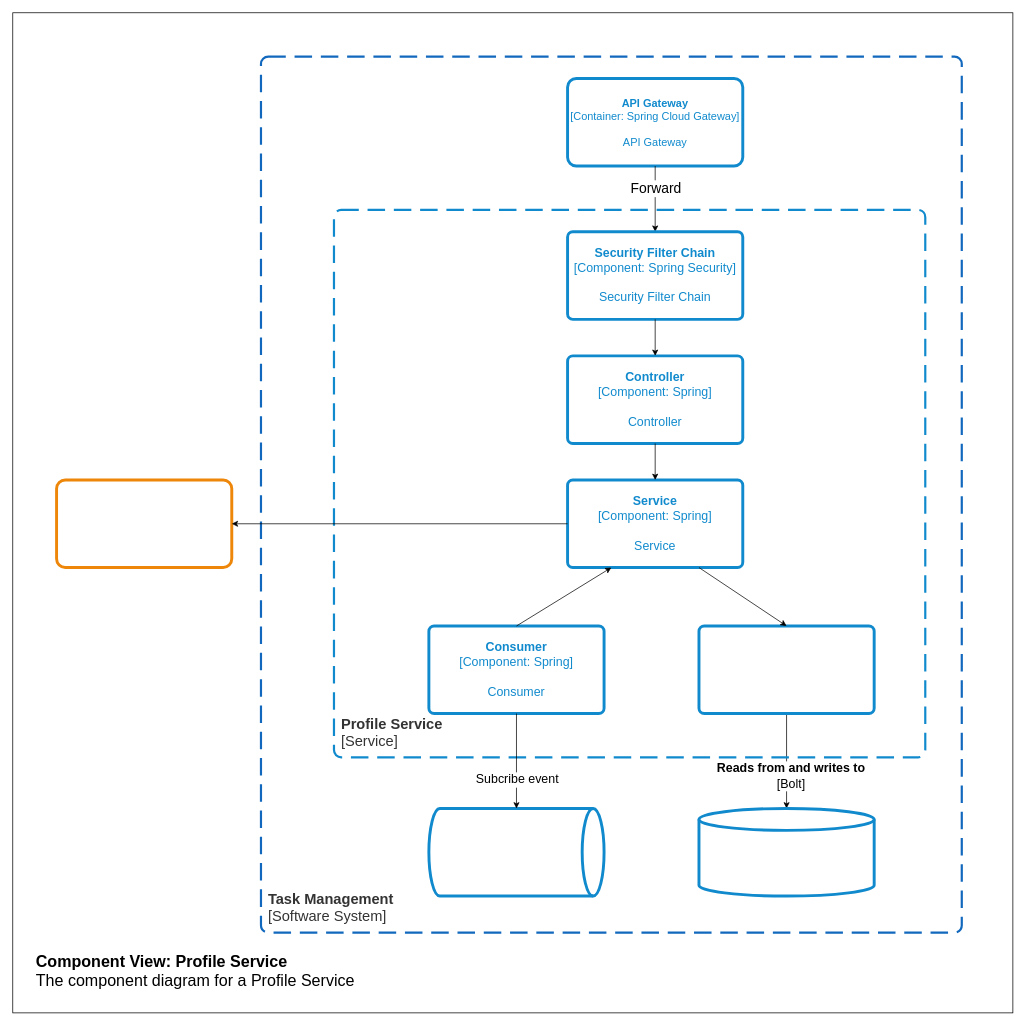
Image size: 1026x1026. Some labels were removed from this diagram. The centre of each missing label's shape, as x and y in pixels:
"Cloudinary [Software System] Media Management SaaS" goes at (144,523).
"Message Broker [Container: RabbitMQ] Message Broker" goes at (516,852).
"Neo4j [Container: Neo4j] Gragh DBMS" goes at (786,852).
"Repository [Component: Spring] Repository" goes at (786,669).
